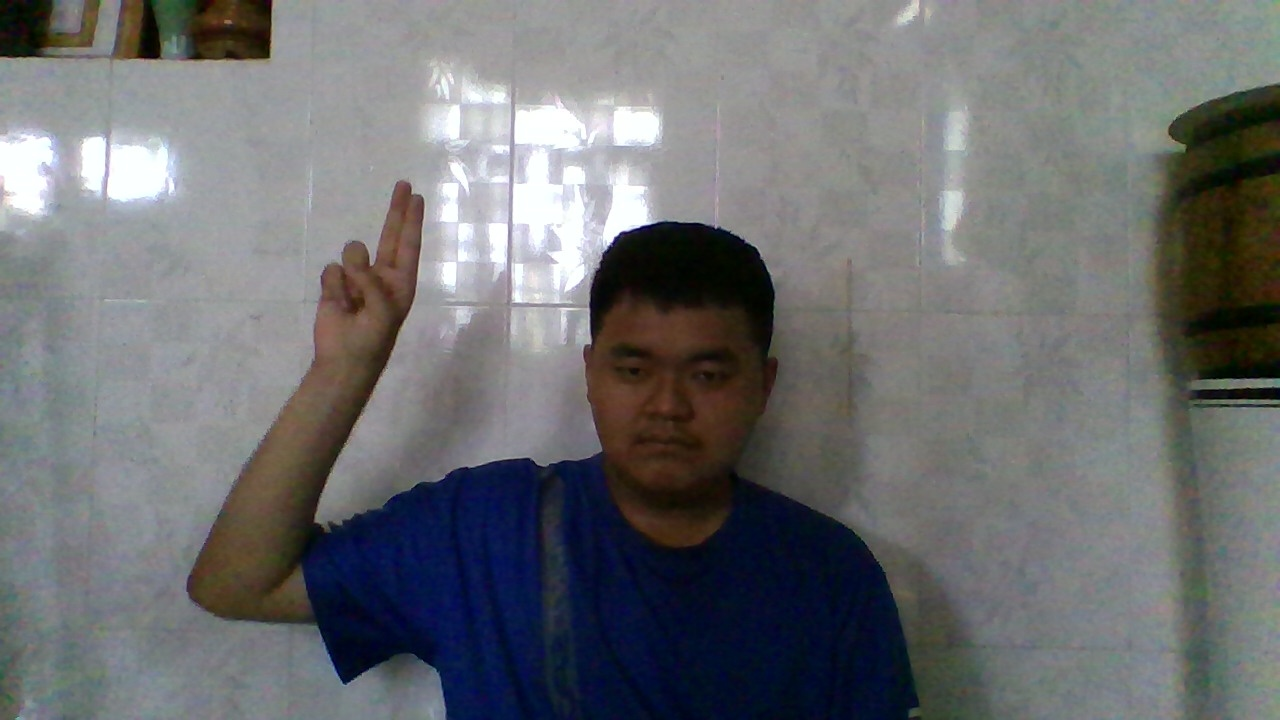U: (313, 169, 431, 380)
